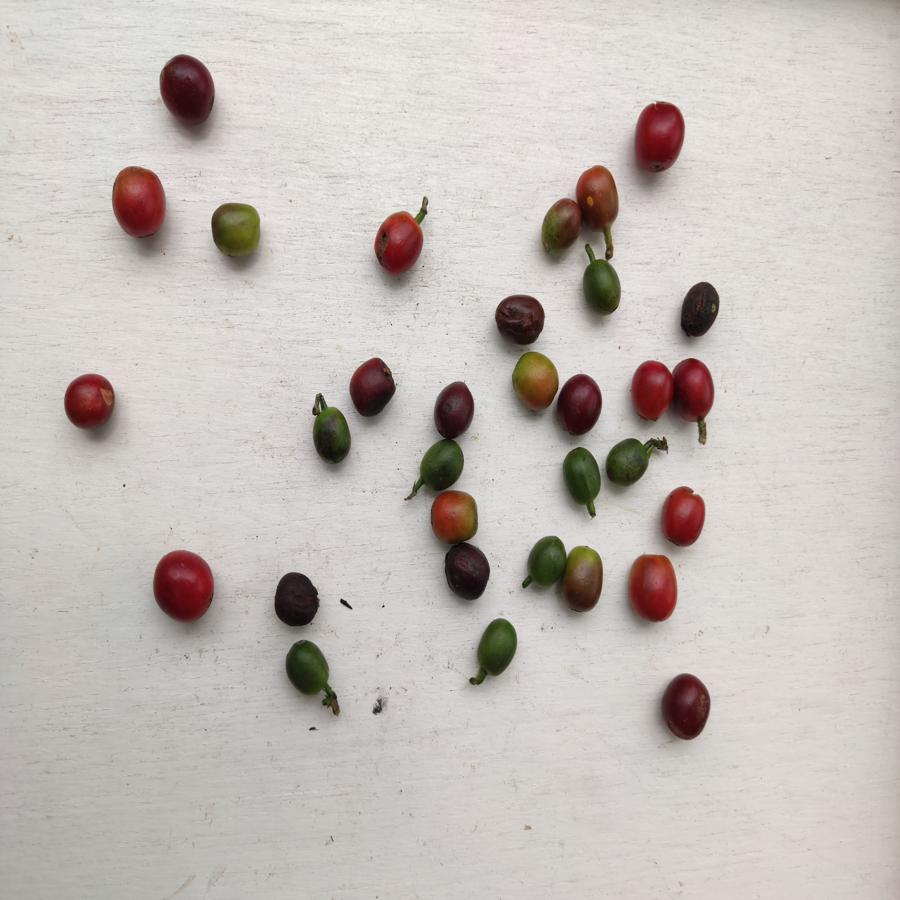Inmaduro: (282, 635, 335, 698), (310, 406, 352, 469), (558, 446, 601, 507), (417, 436, 466, 489), (602, 436, 652, 487), (582, 262, 625, 318), (478, 618, 518, 676), (527, 537, 566, 592)
Maduro: (150, 549, 215, 623), (108, 167, 169, 242), (632, 95, 686, 172), (370, 210, 425, 276), (633, 552, 680, 623), (62, 374, 118, 431), (669, 358, 720, 420), (662, 485, 705, 548), (630, 360, 670, 424)
Pinton: (562, 542, 607, 613), (211, 200, 263, 261), (577, 168, 624, 232), (510, 351, 557, 415), (540, 197, 580, 255)
Sobremaduro: (157, 52, 222, 128), (662, 672, 712, 742), (346, 356, 397, 420), (441, 542, 492, 600), (493, 292, 547, 344), (272, 571, 321, 628), (558, 373, 602, 436), (432, 378, 477, 438), (678, 280, 722, 338)
